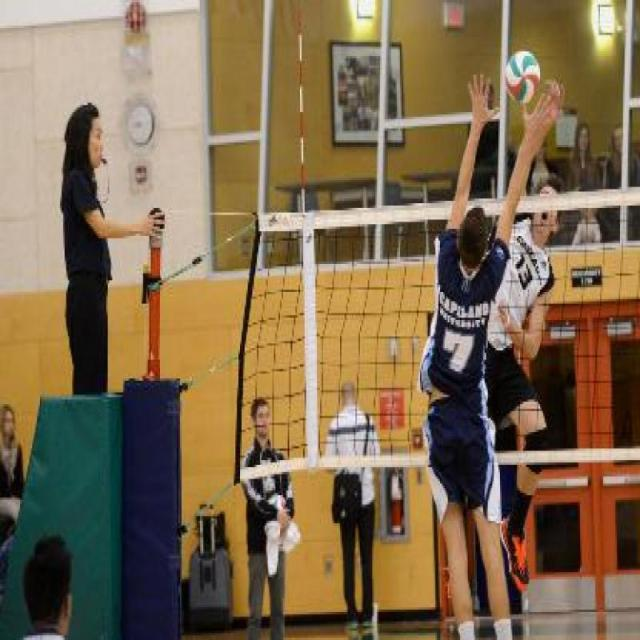volleyball: (503, 49, 540, 103), (266, 488, 286, 507)
